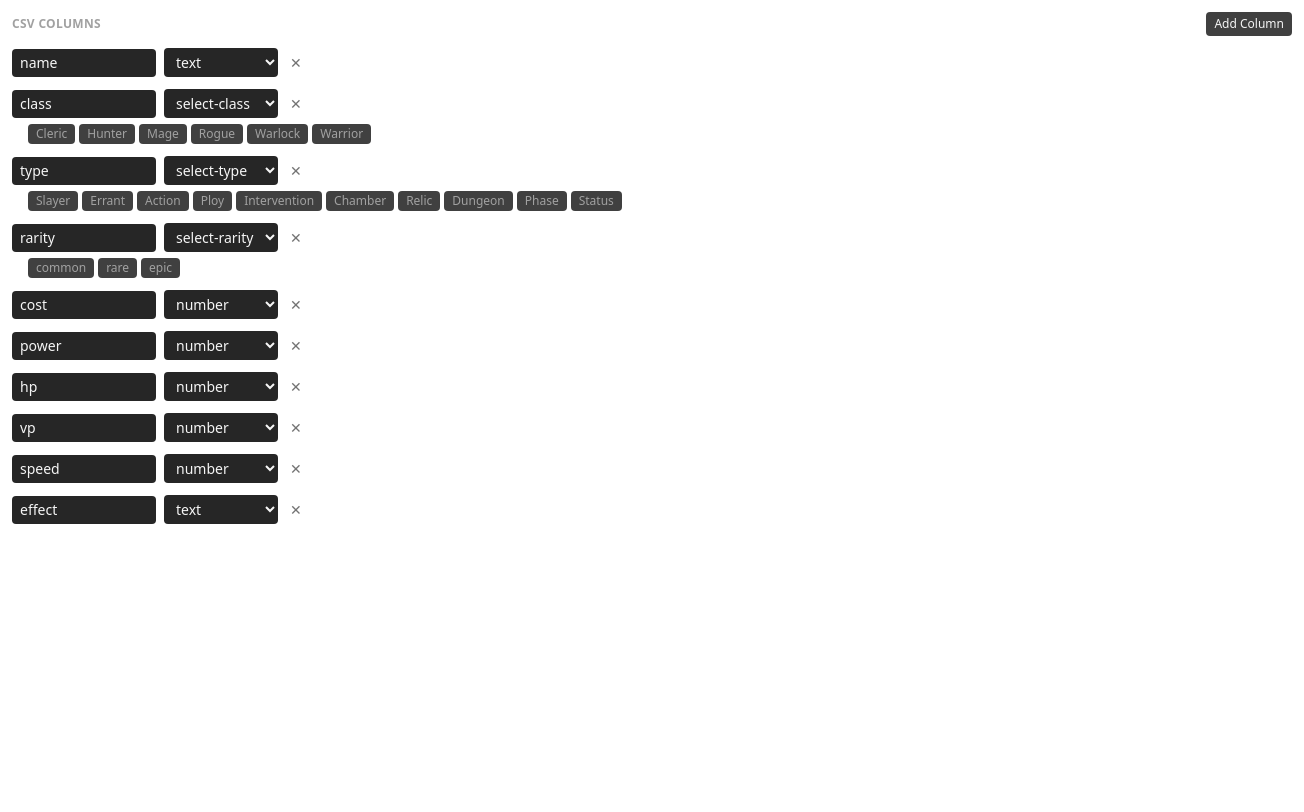
Test: CsvColumnEditor › changing type to "select" shows the choices editor
// change first column (name, text) to select
Select "select" in the 1st dropdown named "column type": (221, 62) [164,48,278,77]
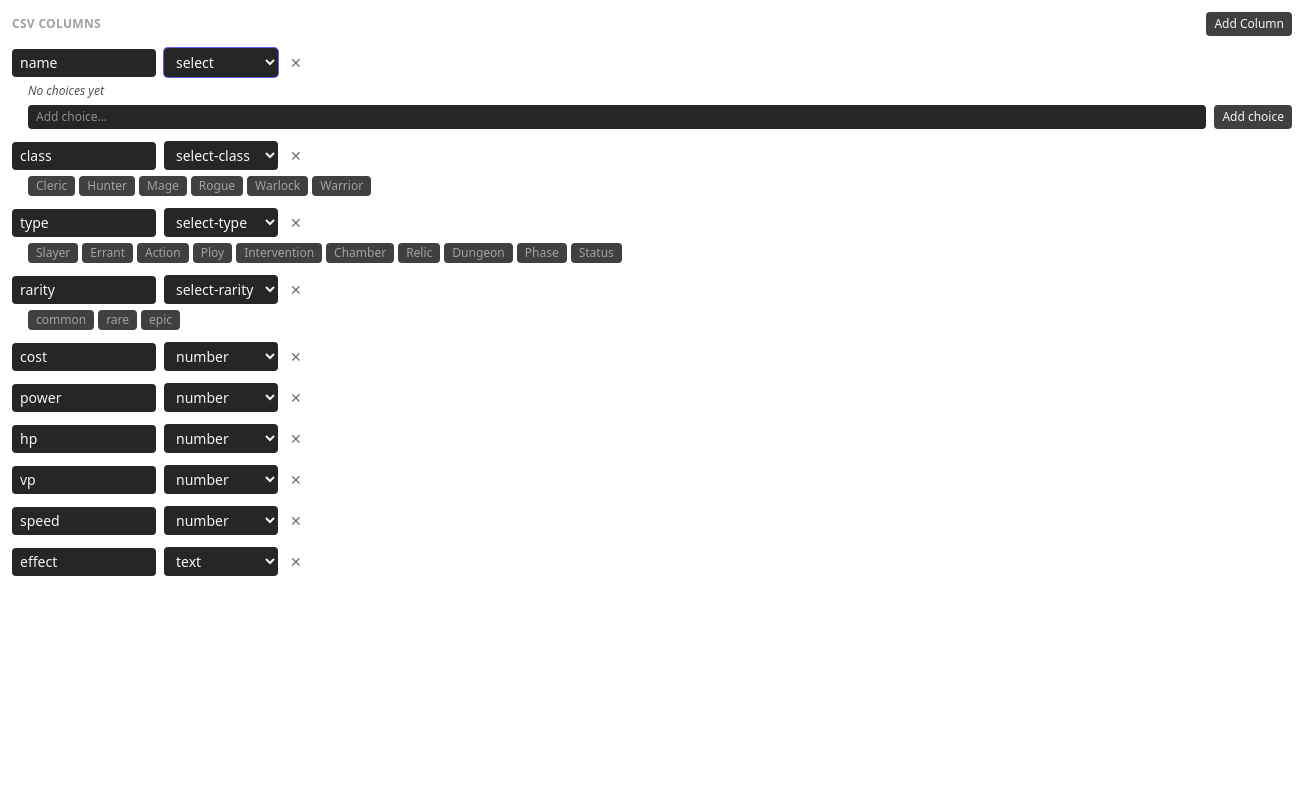
Expected: the number of fields with placeholder "Add choice…" is 1, [28,105,1206,129]
